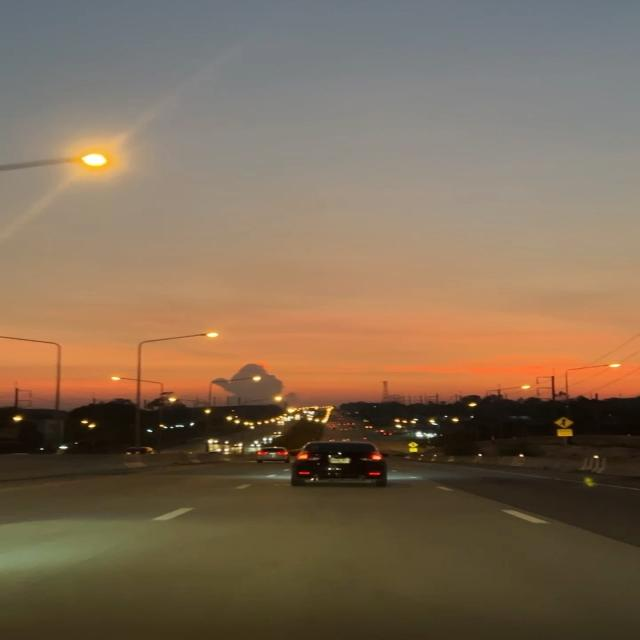Poth-hole: (2, 483, 585, 597)
